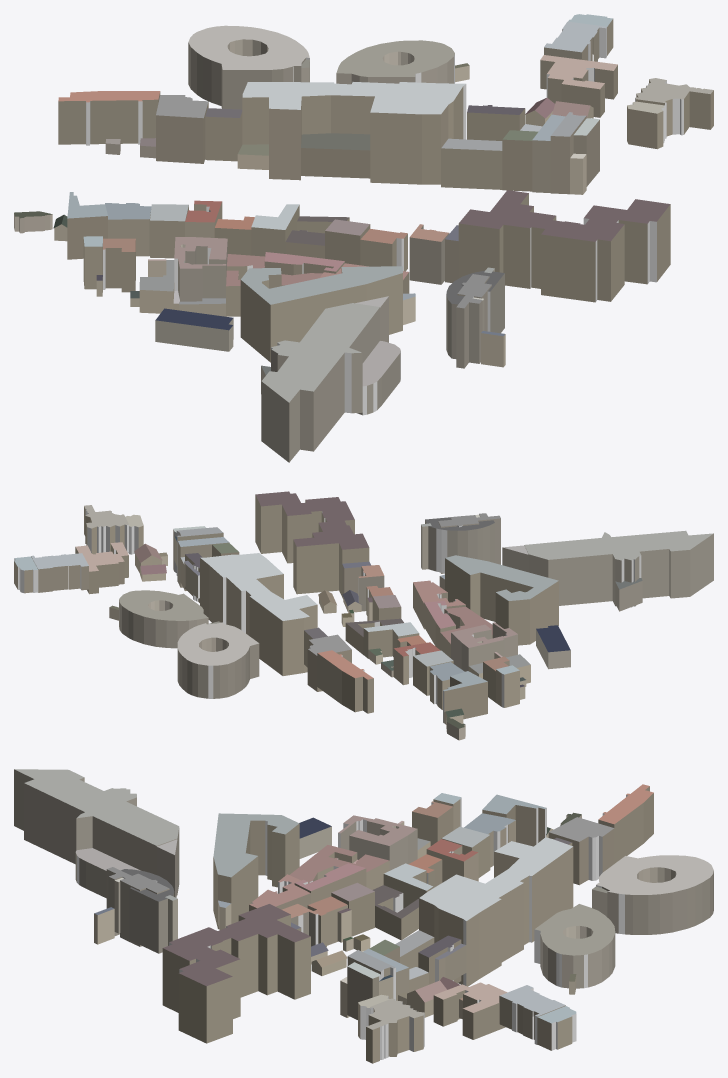
3 views of the same model, one above another, from view 1: azimuth 30°, elevation 25°; view 2: azimuth 150°, elevation 25°; view 3: azimuth 270°, elevation 25° (orthographic). The views are drawn at different scales.
Parts seen in each view (by area): view 1: tuile; view 2: tuile; view 3: tuile.
Part boxes in pixels (box(x1,y1,x2,y2)): tuile: box(14, 14, 713, 462); tuile: box(14, 491, 713, 740); tuile: box(14, 769, 713, 1063).
Bounding box in the file's own units: 272 × 44.5 × 284.
